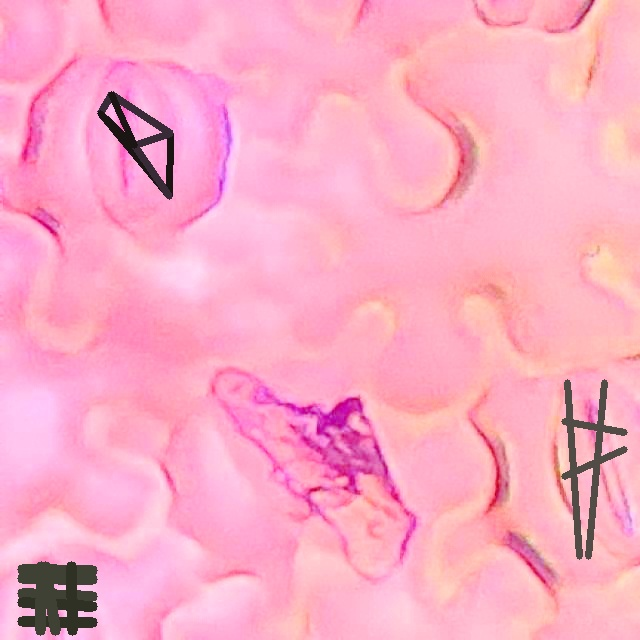open: (561, 380, 627, 559), (97, 92, 172, 198), (18, 562, 96, 635)
